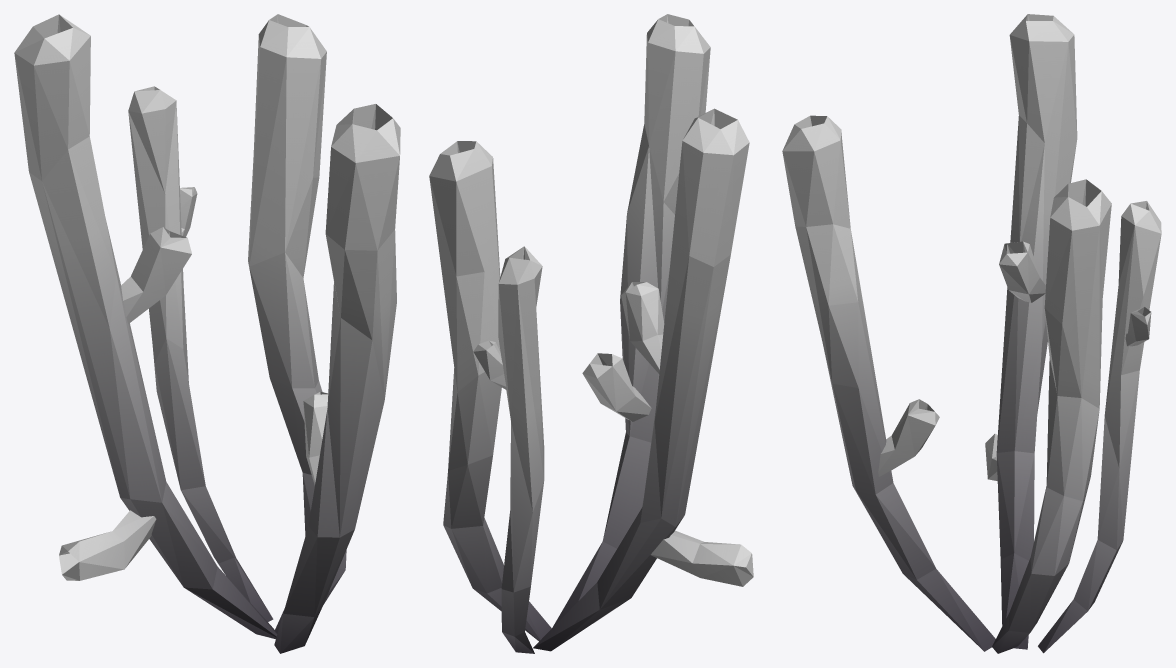
File: SM_Spongia_18.fbx
3 renders of one model, left to right at view 1: azimuth 30°, elevation 25°; view 2: azimuth 150°, elevation 25°; view 3: azimuth 270°, elevation 25°, orthographic. The views are drawn at different scales.
Parts seen in each view (by area): view 1: Spongia_18; view 2: Spongia_18; view 3: Spongia_18.
Part boxes in pixels (box(x1,y1,x2,y2)): Spongia_18: box(14, 14, 400, 653); Spongia_18: box(429, 14, 753, 653); Spongia_18: box(782, 14, 1161, 653).
Bounding box in the file's own units: 54.5 × 104 × 65.47.
